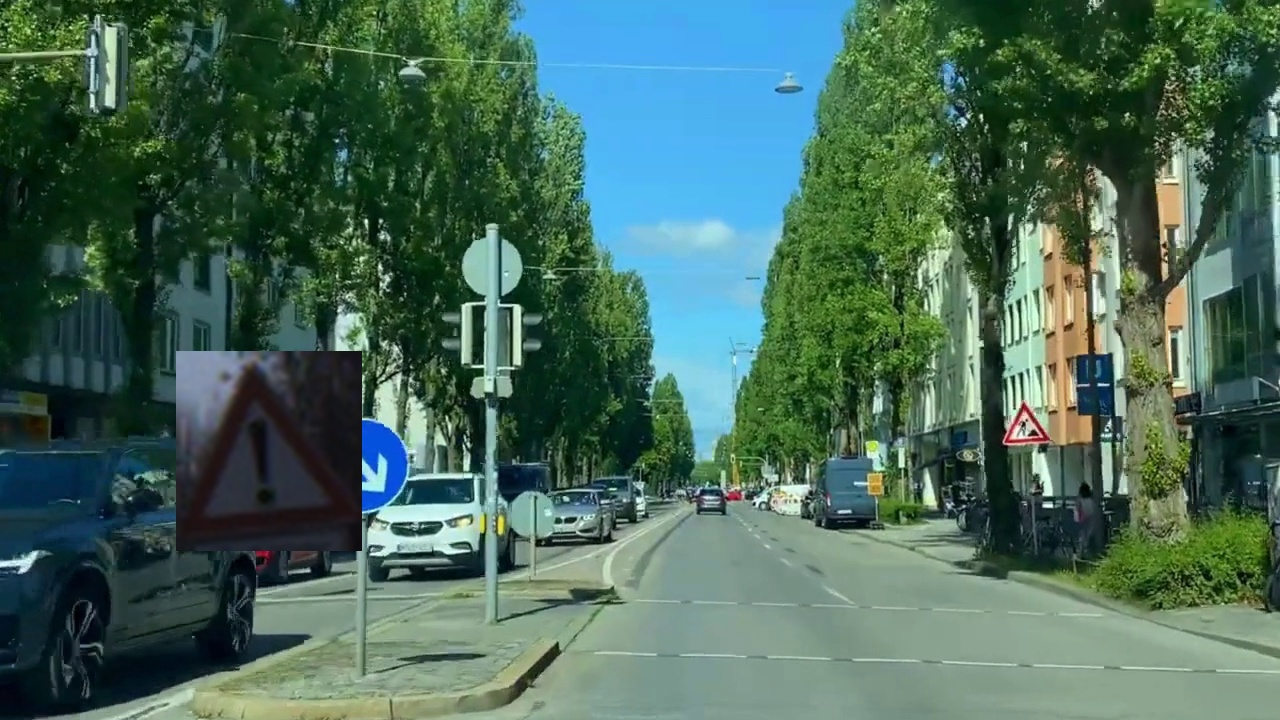Caution: (176, 351, 362, 551)
